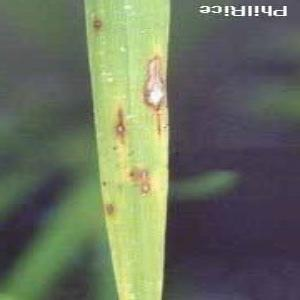Rice_Blast: (133, 52, 176, 121), (102, 103, 147, 149)
